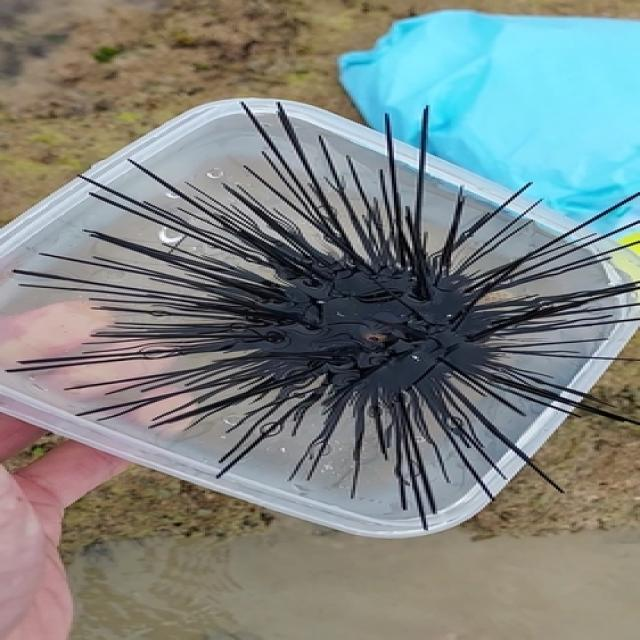Urchin: (4, 99, 640, 531)
